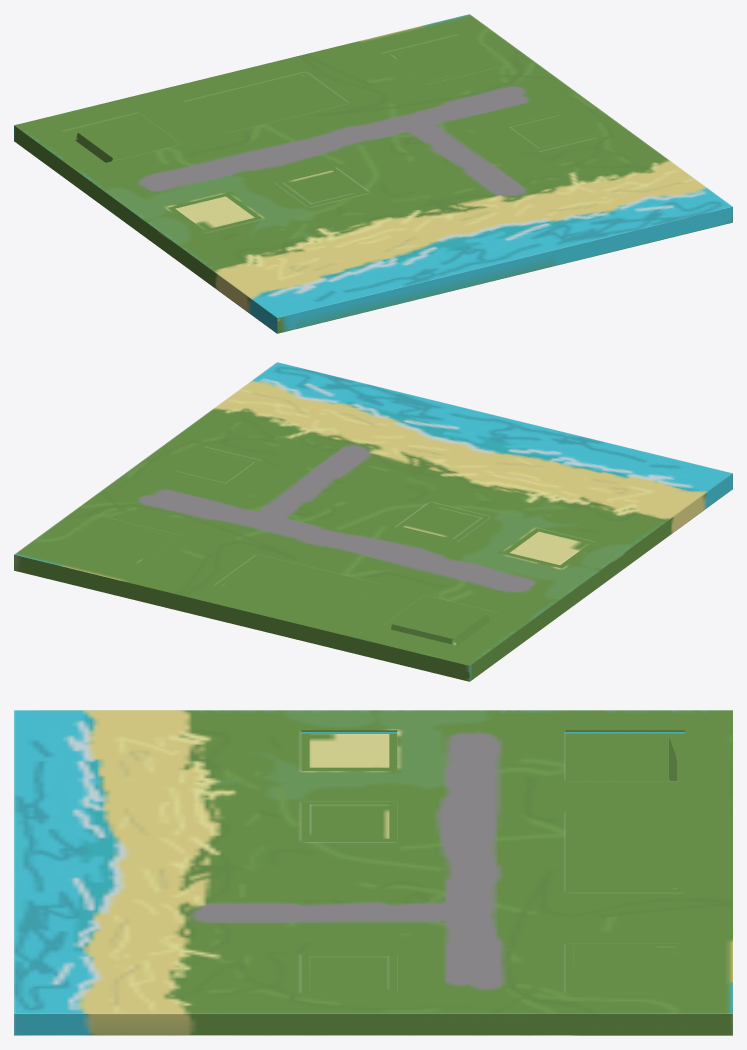
3 views of the same model, one above another, from view 1: azimuth 30°, elevation 25°; view 2: azimuth 150°, elevation 25°; view 3: azimuth 270°, elevation 25° (orthographic). The views are drawn at different scales.
Visible parts, largest first — view 1: Cube.001; view 2: Cube.001; view 3: Cube.001.
Part boxes in pixels (x1,y1,x2,y2): Cube.001: [14, 14, 732, 333]; Cube.001: [14, 362, 732, 681]; Cube.001: [14, 710, 732, 1035].
Size of the model in its own units: 30 by 1 by 30.
1 material, 1 textured.
